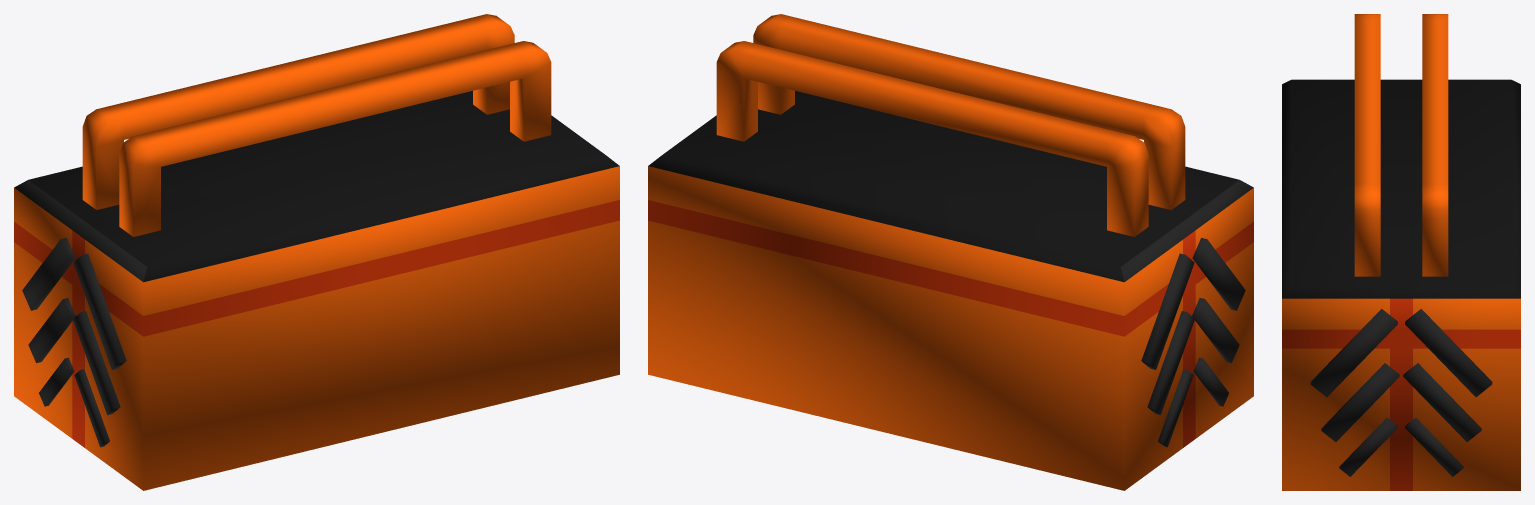
The model's file is CaixaFerramentas 1.fbx.
3 views of the same model, side by side, from view 1: azimuth 30°, elevation 25°; view 2: azimuth 150°, elevation 25°; view 3: azimuth 270°, elevation 25° (orthographic). The views are drawn at different scales.
Parts seen in each view (by area): view 1: CaixaFerramentas; view 2: CaixaFerramentas; view 3: CaixaFerramentas.
Boxes of the visible parts, bbox=[...] form: CaixaFerramentas: bbox=[14, 14, 619, 490]; CaixaFerramentas: bbox=[648, 14, 1253, 490]; CaixaFerramentas: bbox=[1282, 14, 1520, 490].
Bounding box in the file's own units: 54.32 × 32.26 × 24.79.
